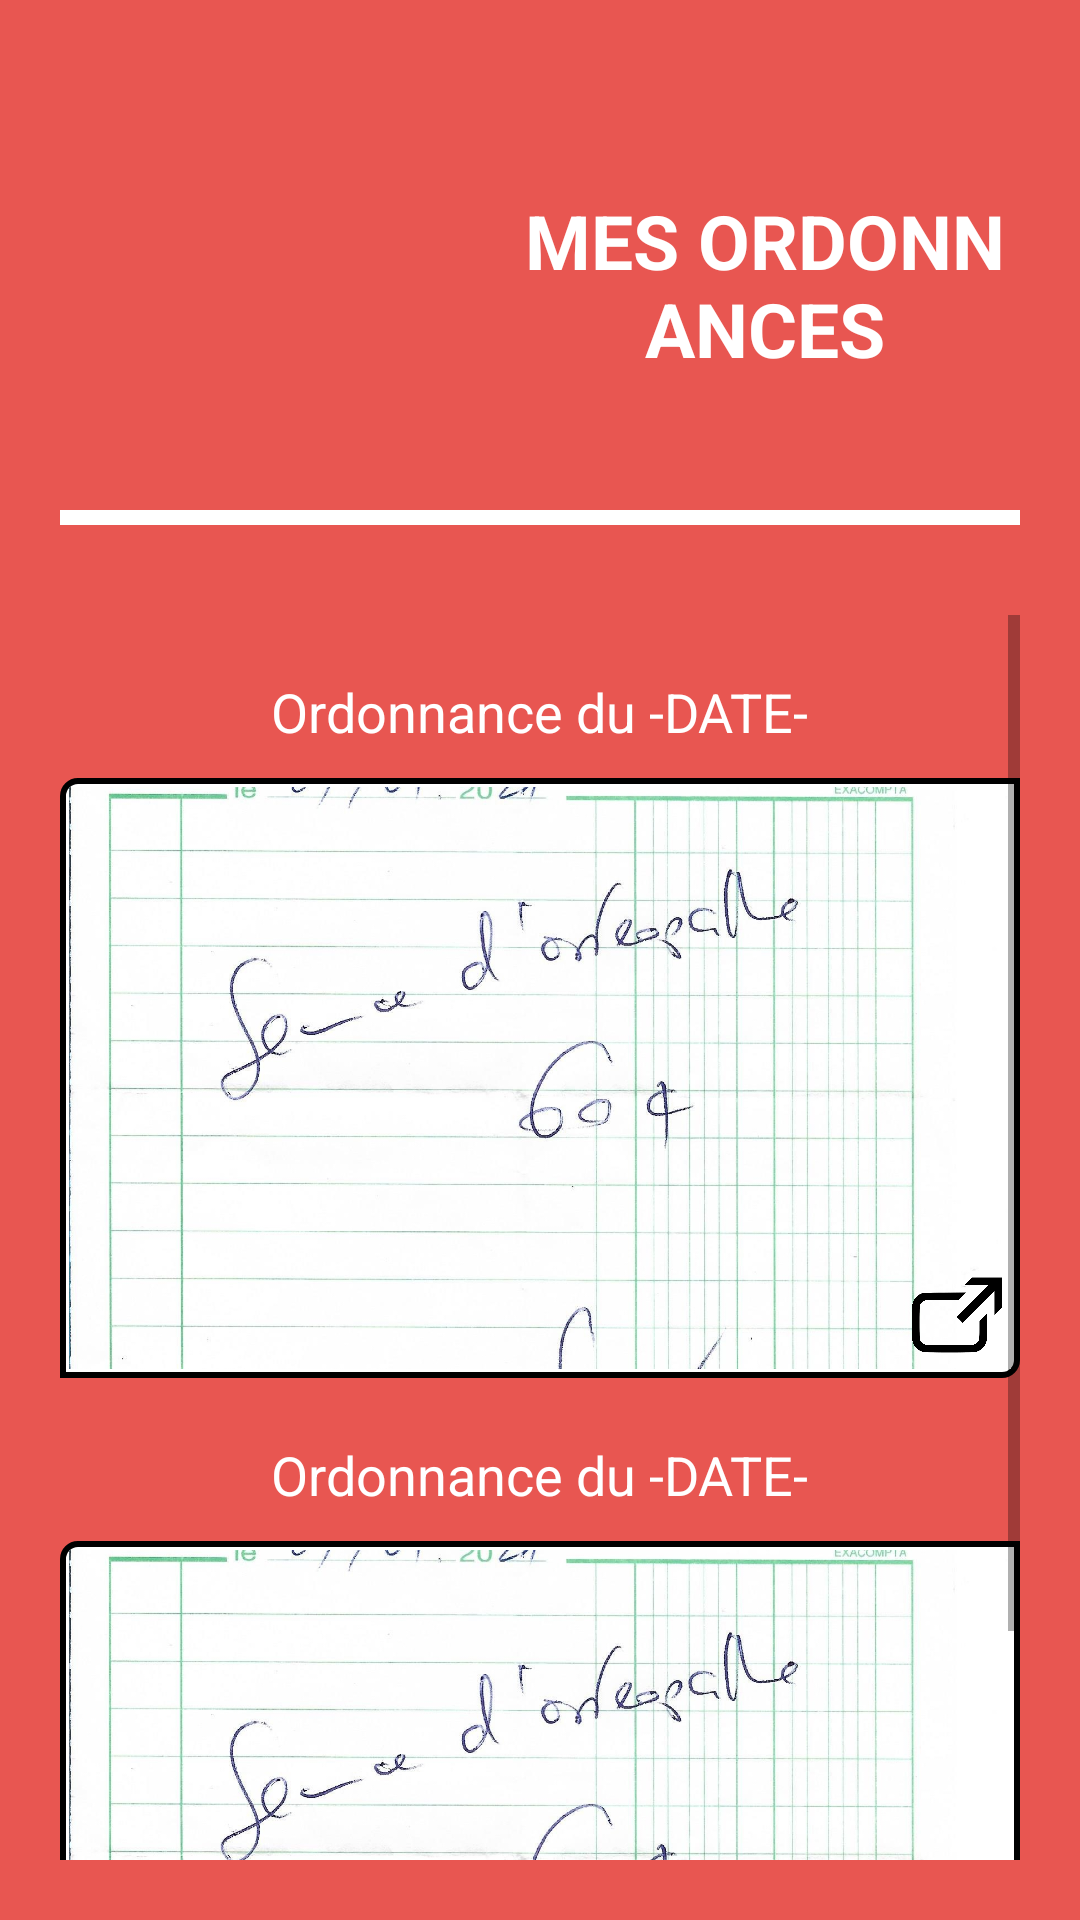

Where icons sit on this 1080×1920 app screen, as (x1,y1,x2,y2):
open: (912,1270,1002,1360)
